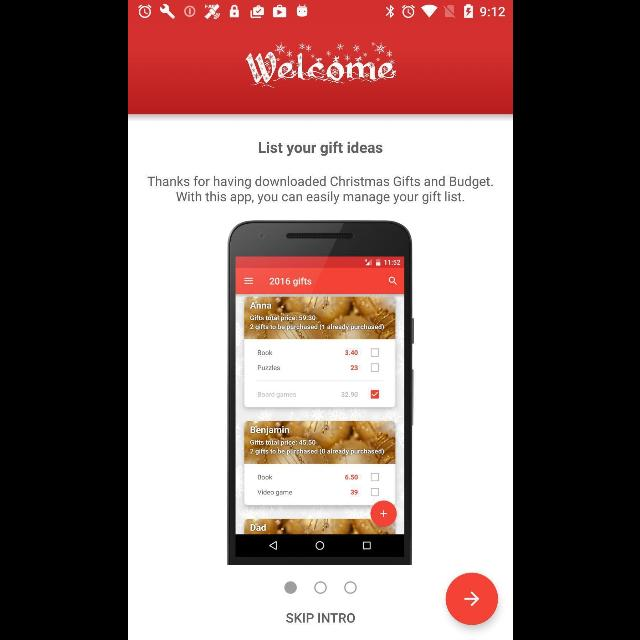button: (444, 572, 498, 626)
image: (226, 220, 414, 566), (244, 41, 396, 88)
pageindicator: (284, 581, 356, 595)
text: (146, 176, 492, 204), (258, 141, 382, 157), (285, 612, 355, 624)
uppertaskbar: (128, 1, 512, 23)
